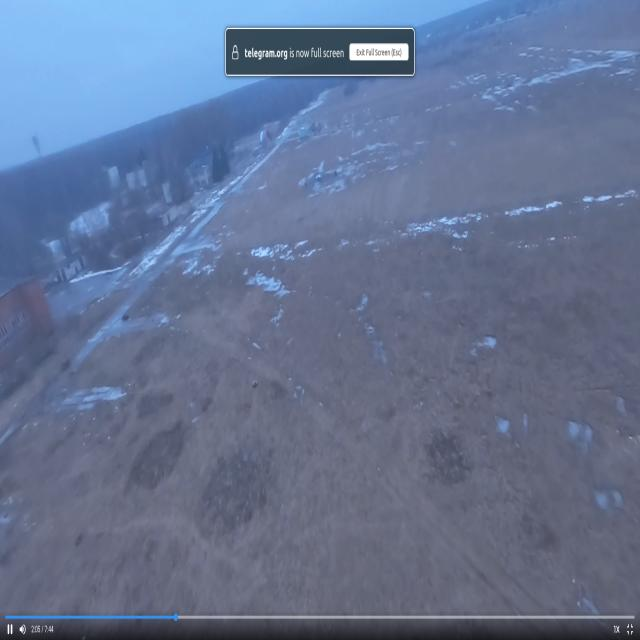planedrone: (304, 172, 338, 190)
